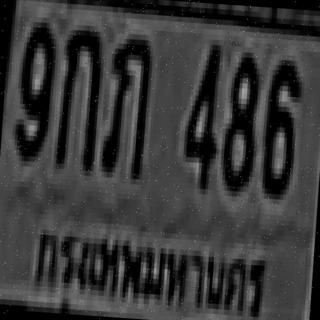A01: (53, 18, 101, 165)
A32: (99, 32, 151, 174)
N04: (178, 38, 221, 190)
N06: (259, 54, 301, 195)
N08: (219, 48, 258, 189)
N09: (11, 16, 55, 157)
P04: (27, 214, 272, 320)
